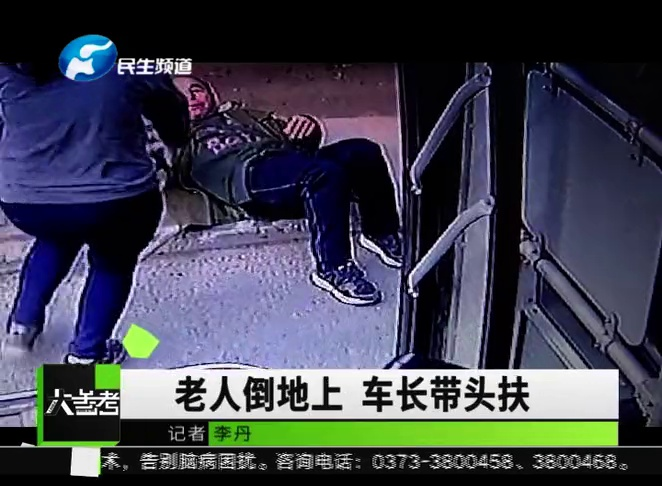fall: (151, 71, 413, 297)
nofall: (3, 48, 161, 347)
